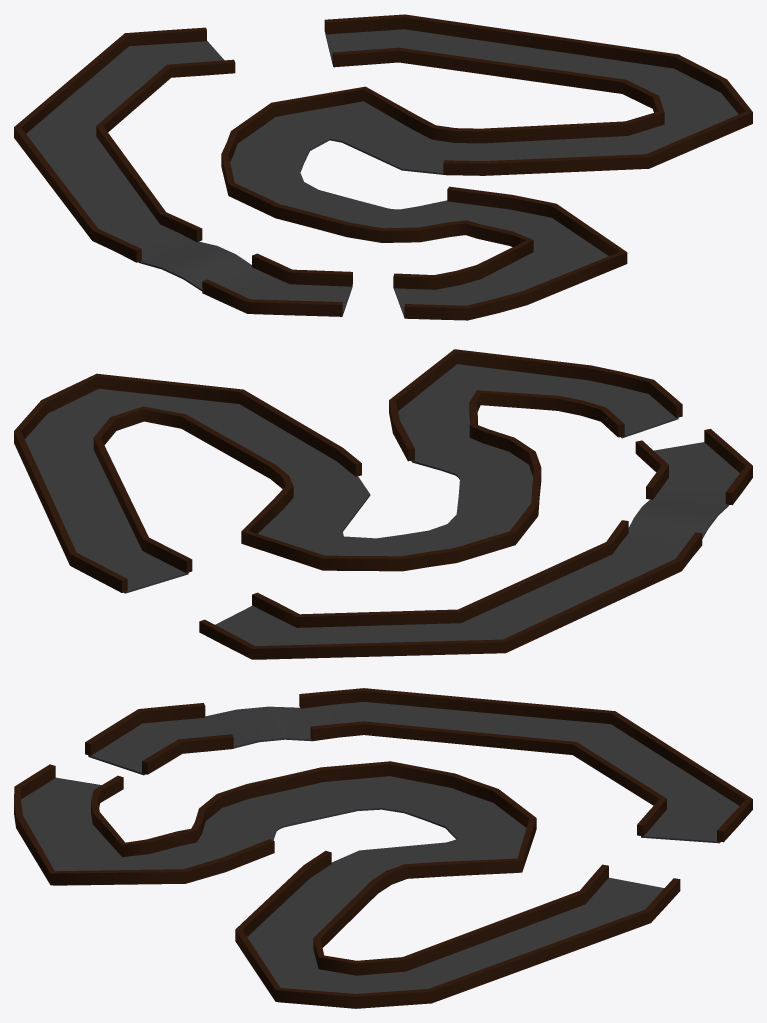
File: track4.FBX
The picture shows the model from 3 angles, top to bottom: view 1: azimuth 30°, elevation 25°; view 2: azimuth 150°, elevation 25°; view 3: azimuth 270°, elevation 25°; orthographic projection. The views are drawn at different scales.
Visible parts, largest first — view 1: road, barriers; view 2: road, barriers; view 3: road, barriers.
Part boxes in pixels (x1,y1,x2,y2): road: (26,29,738,316); barriers: (14,14,752,320); road: (25,364,739,659); barriers: (14,349,752,659); road: (21,702,739,1002); barriers: (14,688,752,1008).
Bounding box in the file's own units: 2950 × 60.36 × 2982.
